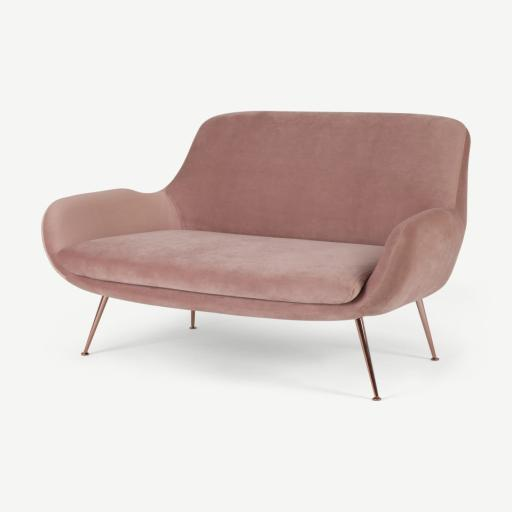back_cushion: (167, 112, 468, 245)
left_arm: (346, 208, 464, 315)
legs: (356, 318, 381, 401), (81, 296, 108, 355), (416, 299, 438, 360), (189, 311, 196, 329)
one-seater: (42, 112, 469, 400)
right_arm: (43, 189, 179, 280)
seat_cushion: (57, 230, 382, 305)
